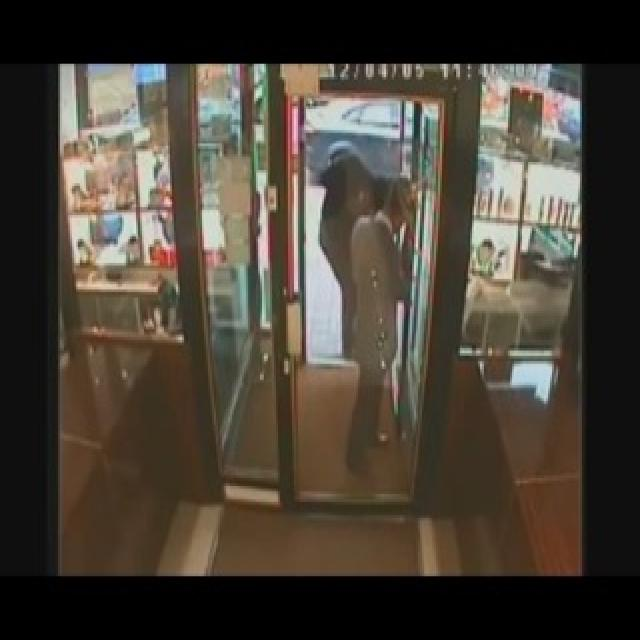burglary: (308, 121, 427, 376)
